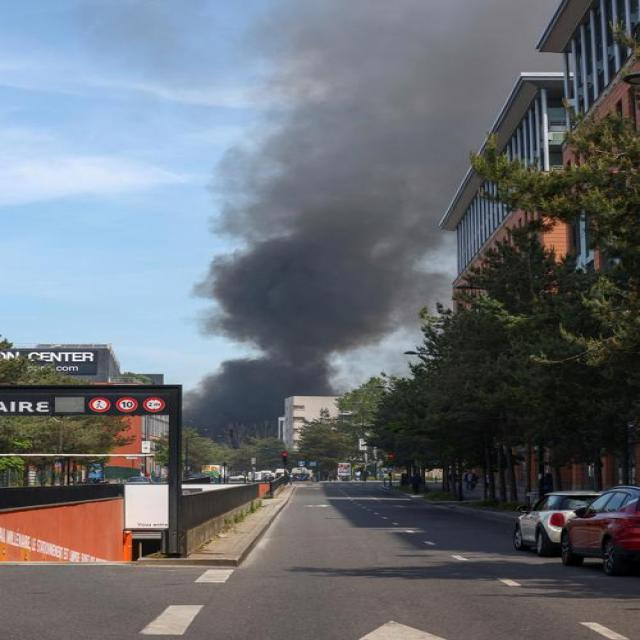Smoke: (186, 0, 451, 348), (178, 350, 336, 422)
